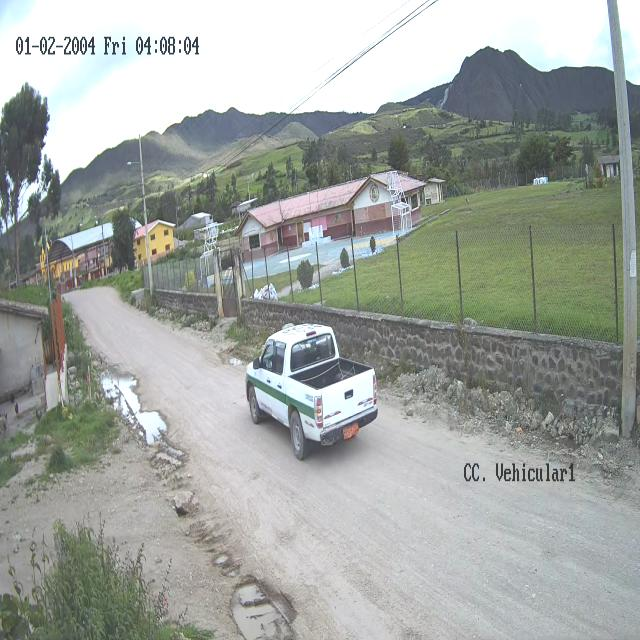CMT: (246, 324, 378, 461)
